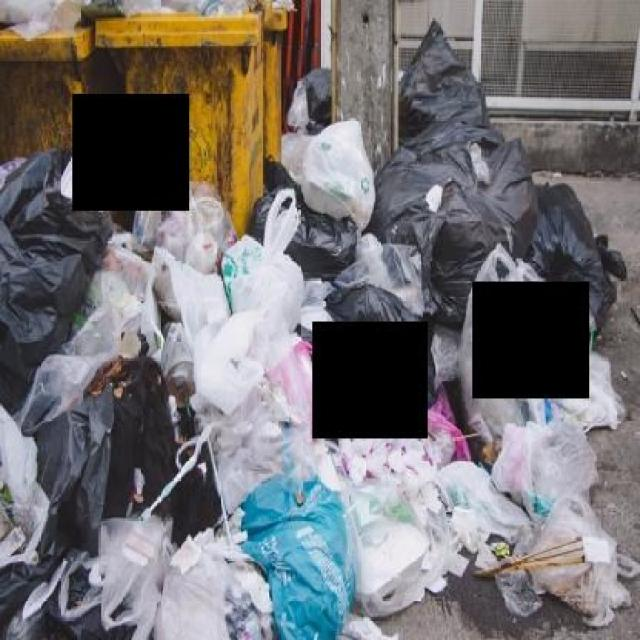plastic bag: (0, 103, 638, 637), (328, 18, 598, 464), (0, 143, 197, 634), (446, 258, 632, 470), (477, 409, 628, 622), (143, 180, 242, 285), (289, 112, 382, 223)
